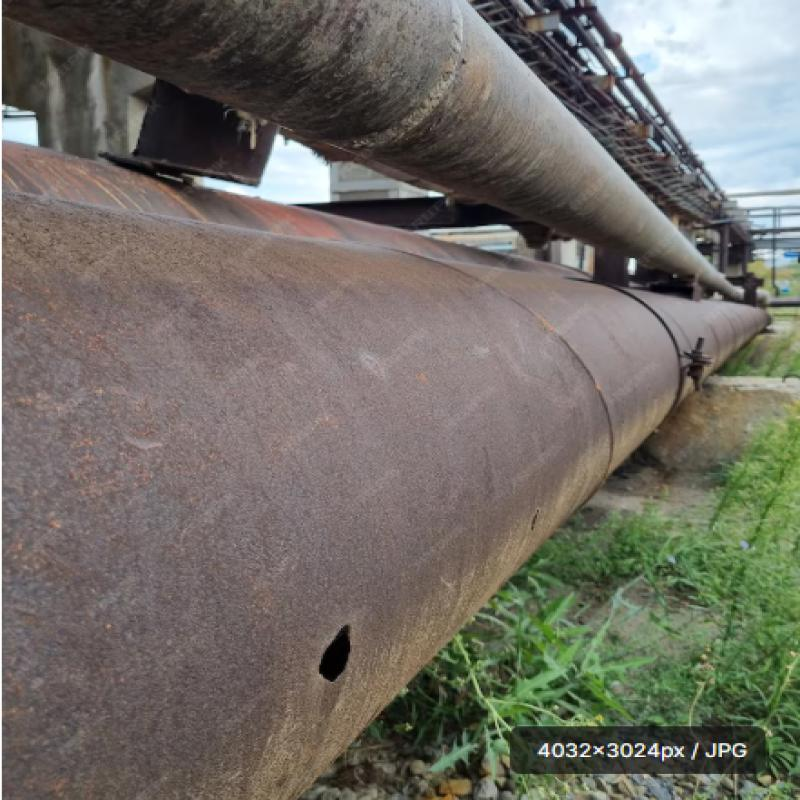Fracture: (310, 602, 377, 696)
